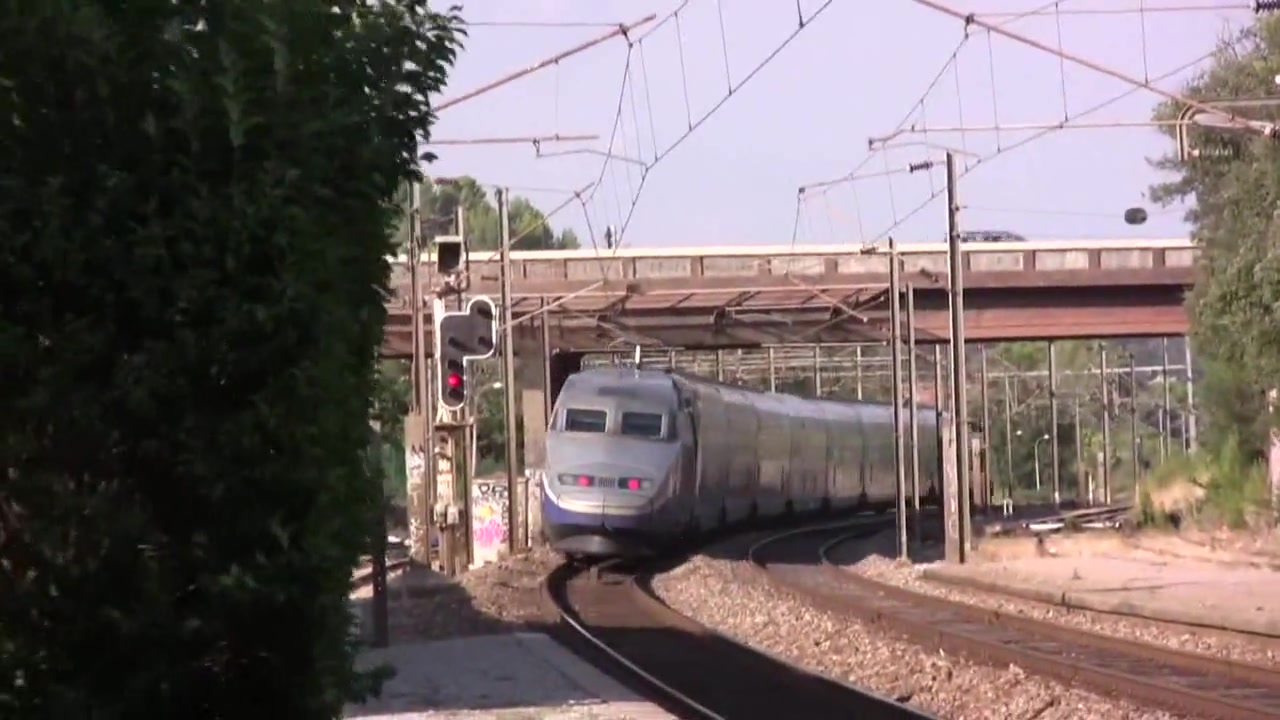train: (537, 369, 897, 559)
